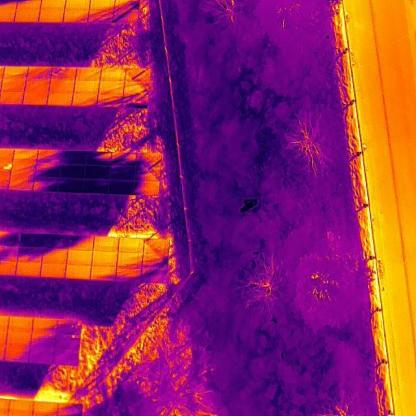No-Anomaly: (38, 6, 65, 22), (8, 400, 34, 416), (6, 330, 30, 347), (13, 7, 40, 22), (67, 250, 92, 266), (66, 264, 91, 280), (92, 251, 118, 266), (16, 261, 42, 276), (94, 237, 119, 252), (41, 264, 66, 279), (7, 318, 33, 332), (32, 402, 58, 416), (119, 239, 144, 253), (117, 253, 143, 266), (1, 78, 26, 91), (47, 92, 72, 105), (49, 80, 75, 92), (0, 91, 24, 104), (22, 93, 48, 105), (25, 79, 50, 91), (74, 80, 99, 92)
Shadowing: (109, 165, 136, 183), (135, 152, 162, 169), (58, 177, 85, 194), (61, 148, 89, 164), (84, 178, 110, 195), (134, 180, 160, 197), (36, 148, 63, 164), (85, 151, 112, 167), (109, 180, 136, 196), (30, 332, 55, 349), (43, 234, 69, 250), (68, 235, 94, 251), (42, 249, 68, 265), (116, 266, 142, 282), (56, 320, 82, 336), (5, 345, 29, 362), (84, 166, 111, 181), (60, 163, 85, 179), (135, 166, 160, 182), (29, 347, 54, 363), (53, 348, 78, 364), (112, 8, 138, 23), (35, 163, 61, 178), (18, 232, 44, 247), (18, 247, 44, 262), (91, 266, 117, 281), (33, 318, 57, 334), (63, 8, 88, 23), (88, 8, 113, 23), (13, 149, 38, 164), (125, 68, 150, 83), (143, 254, 169, 268), (141, 268, 167, 282), (54, 336, 80, 350), (26, 66, 52, 80), (34, 177, 58, 192), (124, 80, 149, 94), (73, 92, 98, 106), (101, 67, 126, 81), (9, 176, 35, 189), (2, 66, 28, 79), (124, 94, 148, 108), (144, 240, 168, 254), (52, 66, 76, 80), (99, 81, 124, 94), (58, 403, 82, 416), (76, 67, 100, 80), (98, 94, 123, 106), (12, 163, 35, 176)
